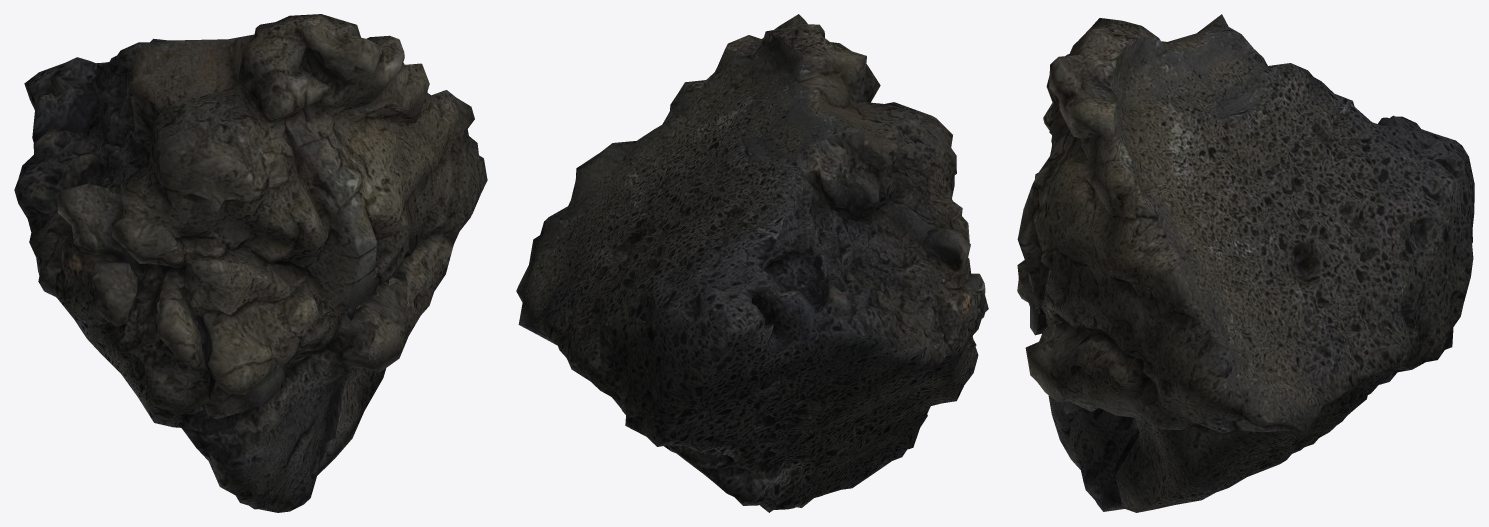
File: ParicutinPlaceHolder.glb
The picture shows the model from 3 angles, left to right: view 1: azimuth 30°, elevation 25°; view 2: azimuth 150°, elevation 25°; view 3: azimuth 270°, elevation 25°; orthographic projection. The views are drawn at different scales.
Visible parts, largest first — view 1: Paricutin.001; view 2: Paricutin.001; view 3: Paricutin.001.
Part boxes in pixels (x1=…): Paricutin.001: x1=14, y1=14, x2=487, y2=512; Paricutin.001: x1=516, y1=14, x2=988, y2=512; Paricutin.001: x1=1017, y1=14, x2=1474, y2=512.
Bounding box in the file's own units: 22.95 × 23.94 × 20.33.
1 material, 1 textured.
